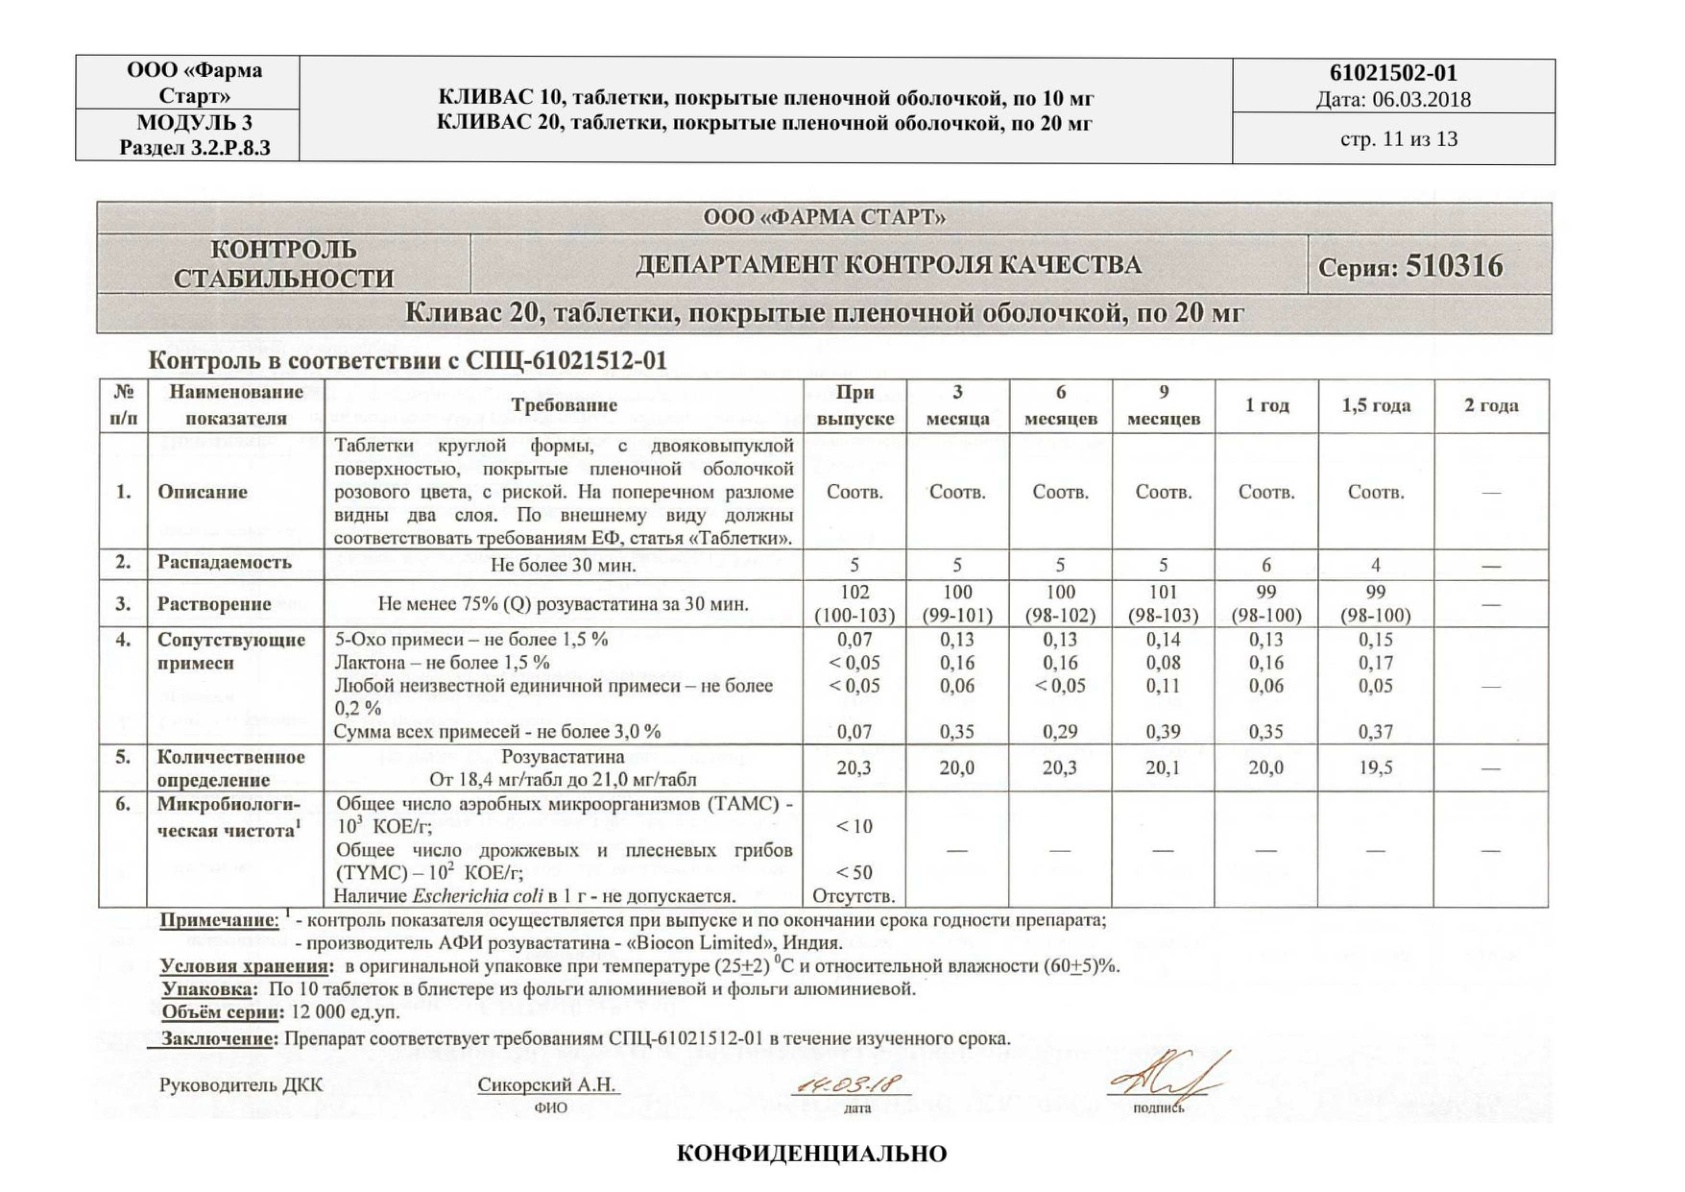full_lined: (97, 377, 1551, 909)
merged_cells: (94, 200, 1553, 337), (74, 53, 1557, 166)
